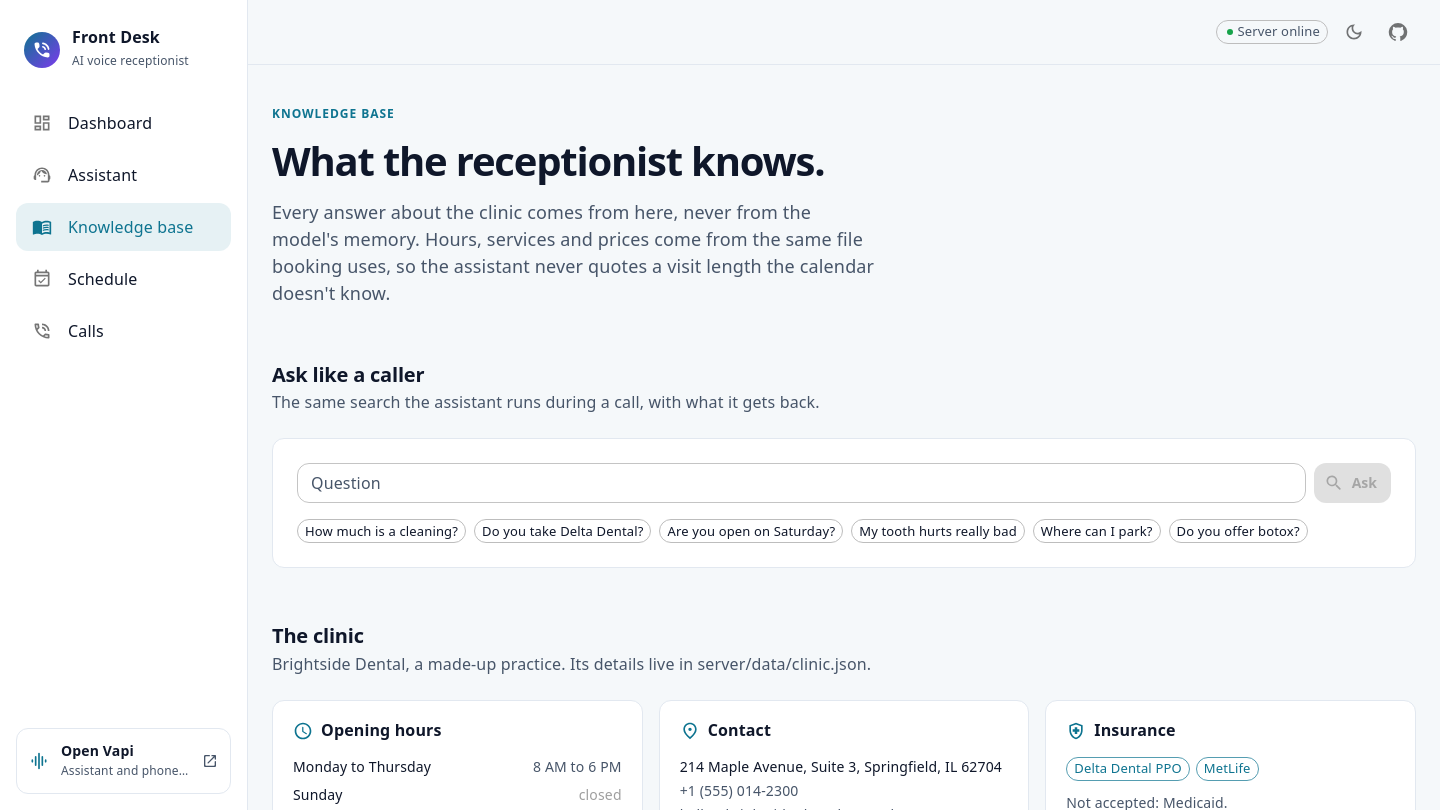
Scenario: Knowledge base page › asks an example question and shows what the assistant gets
Click the button "How much is a cleaning?".
click(382, 531)  # box [297,519,466,543]
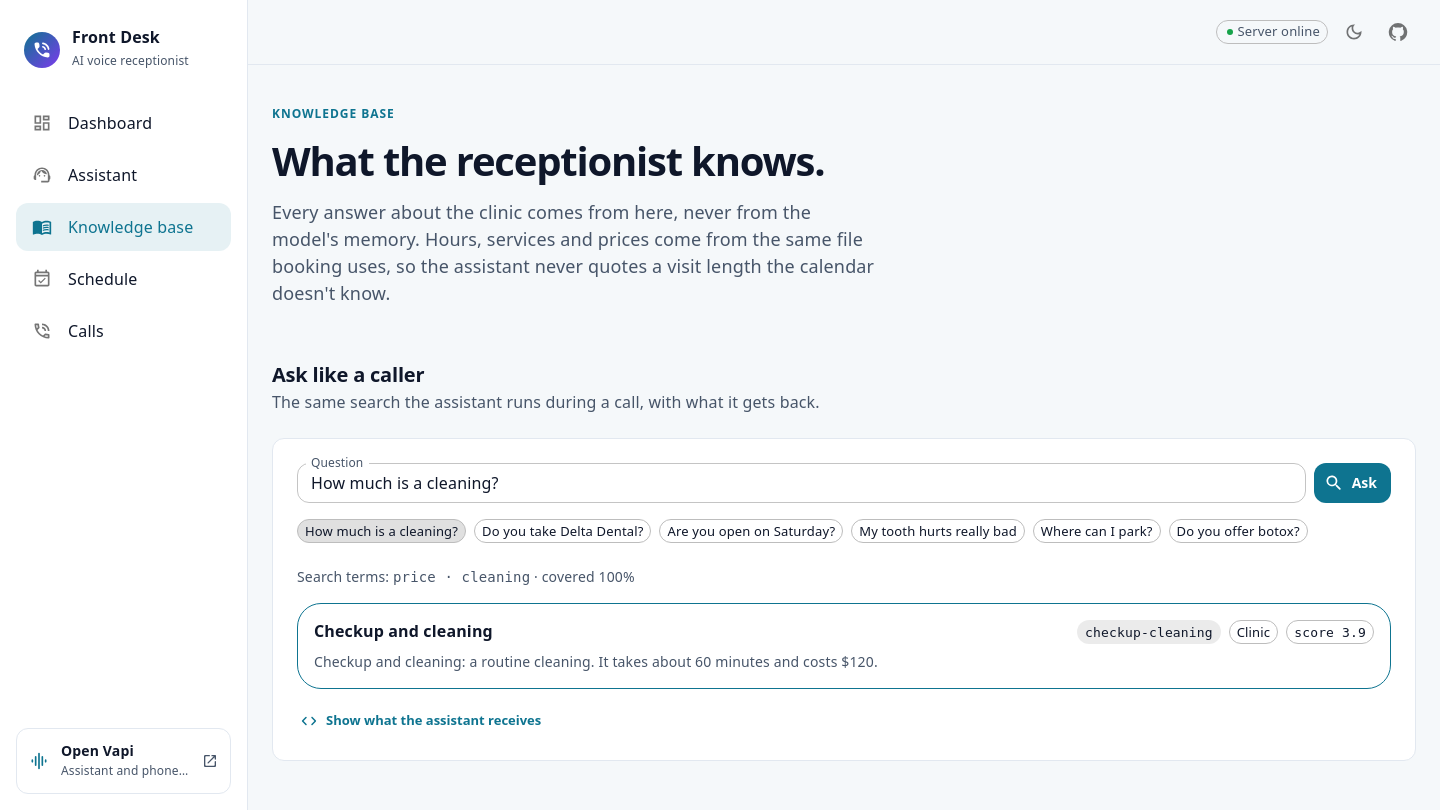
Expected: the text "score 3.9" is shown, [1294,625,1366,640]
Expected: the text "checkup-cleaning" is shown, [1077,623,1221,642]
Expected: the text "price · cleaning" is shown, [393,569,530,585]
Click the button "Show what the assistant receives".
click(422, 721)  # box [297,705,546,736]
(page scrolled)
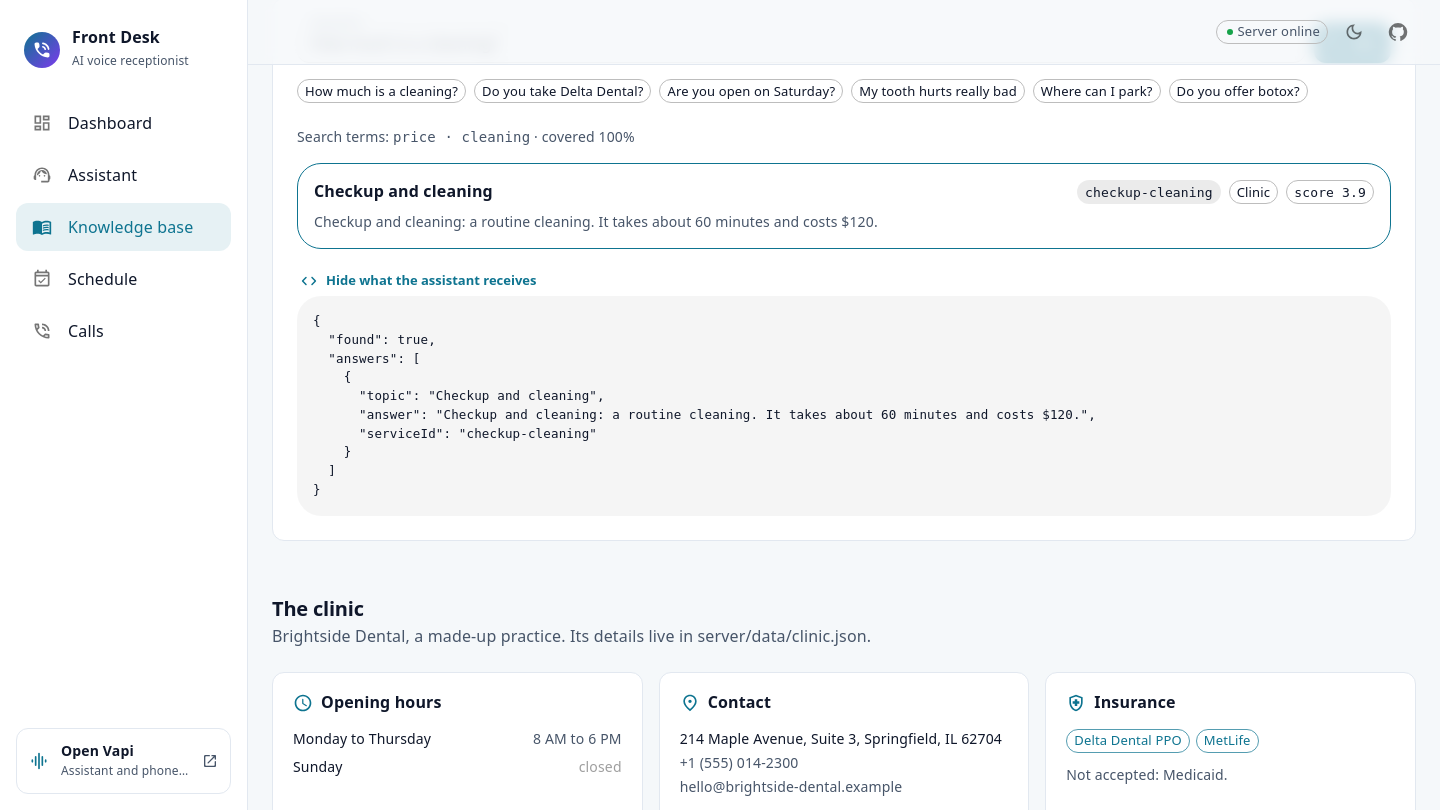
Expected: the text "\"serviceId\": \"checkup-cleaning\"" is shown, [313,313,1096,497]
